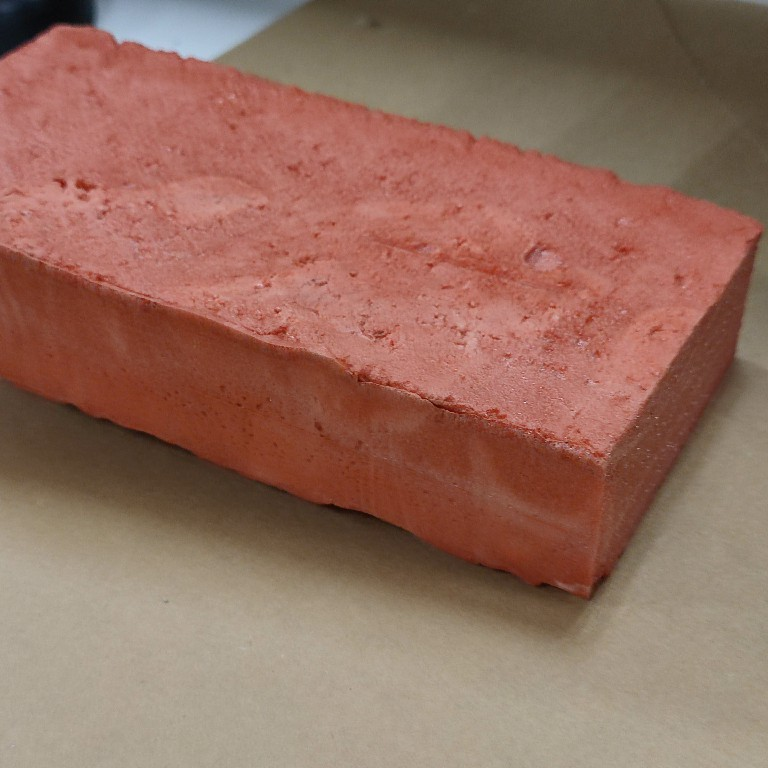brick: (1, 20, 764, 605)
